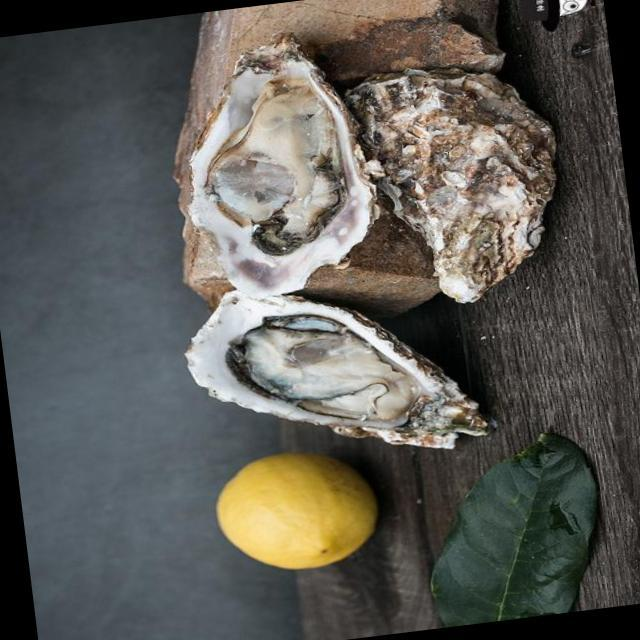Oyster- Indeterminate: (322, 60, 571, 305)
Oyster-Open: (156, 279, 511, 458), (188, 31, 368, 297)
